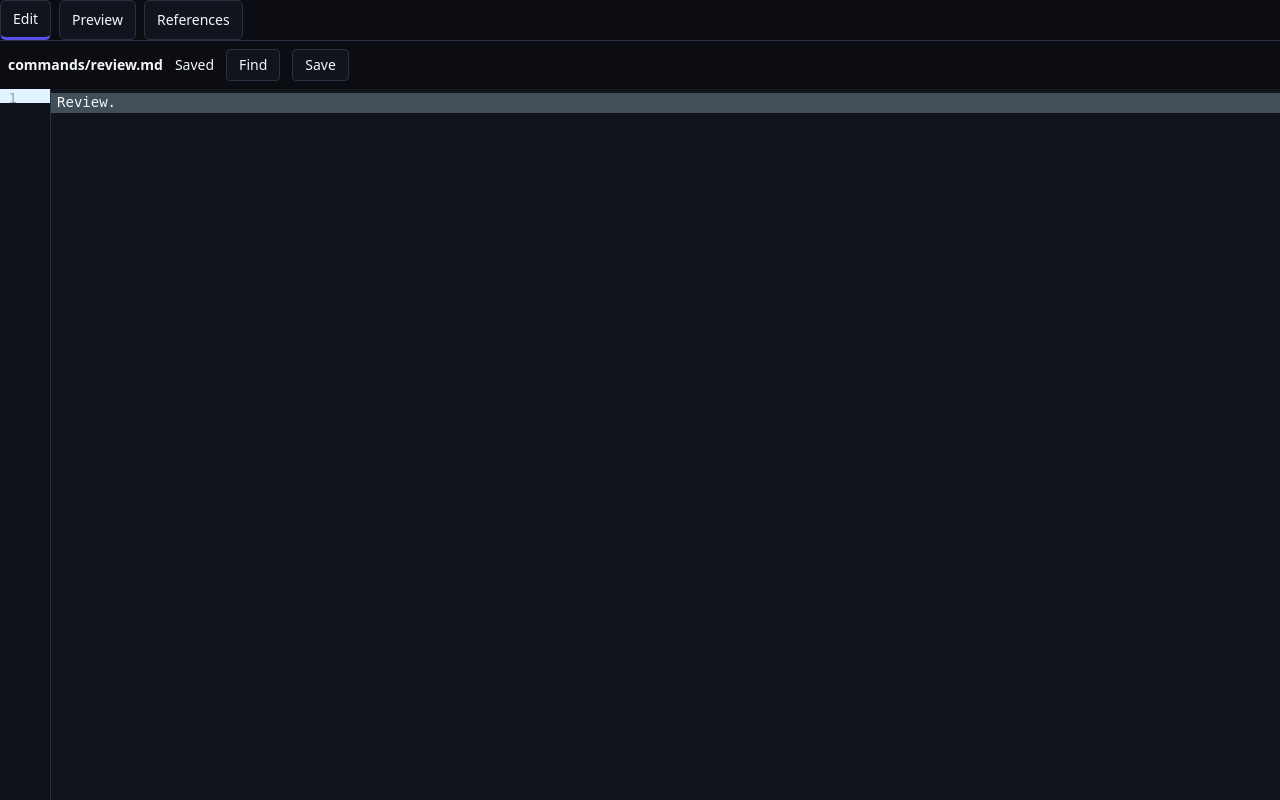
Scenario: does not claim no consumers while saved references are loading
Click the tab "References". click: click(193, 20)
box: left=144, top=0, right=243, bottom=40
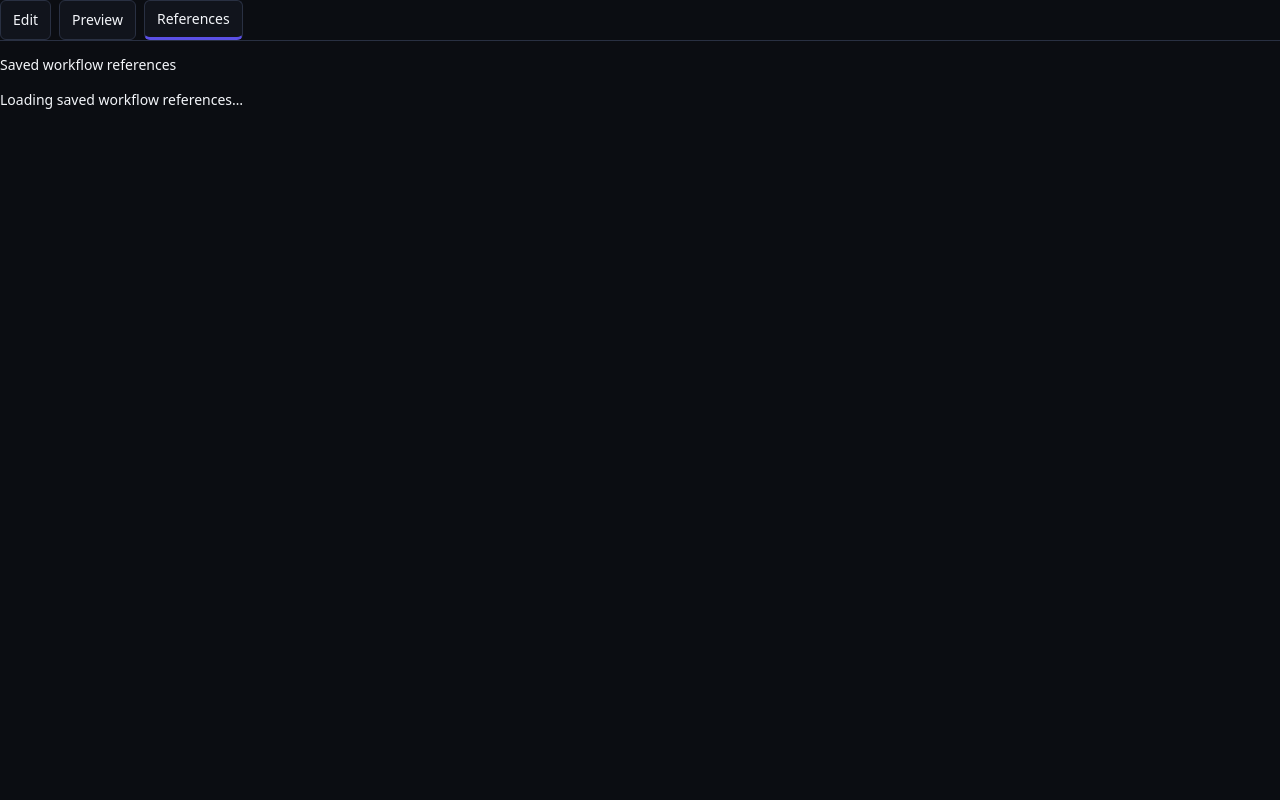
Result: the message shows "Loading saved workflow references" at left=0, top=90, right=243, bottom=109
